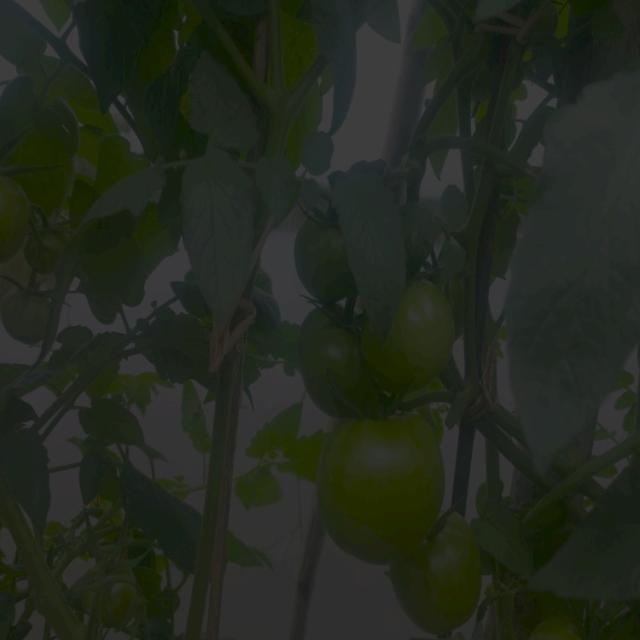tomato: (318, 408, 442, 560), (368, 280, 464, 394), (399, 510, 476, 631), (302, 302, 369, 412), (291, 219, 349, 308), (8, 273, 58, 335), (1, 172, 34, 264)
